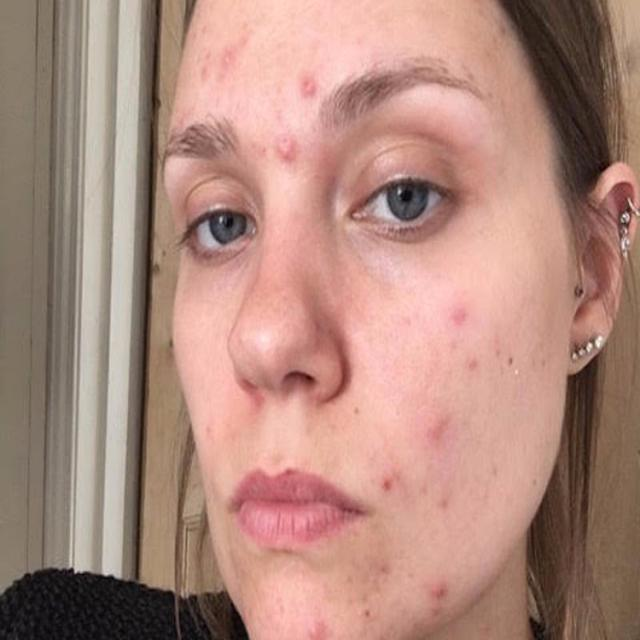Acne: (145, 15, 282, 115), (388, 399, 477, 452), (363, 542, 398, 635), (426, 568, 464, 627), (280, 58, 323, 110), (363, 458, 412, 502), (432, 464, 463, 530), (264, 130, 314, 169), (307, 596, 338, 640), (448, 289, 472, 338), (467, 344, 485, 382)
